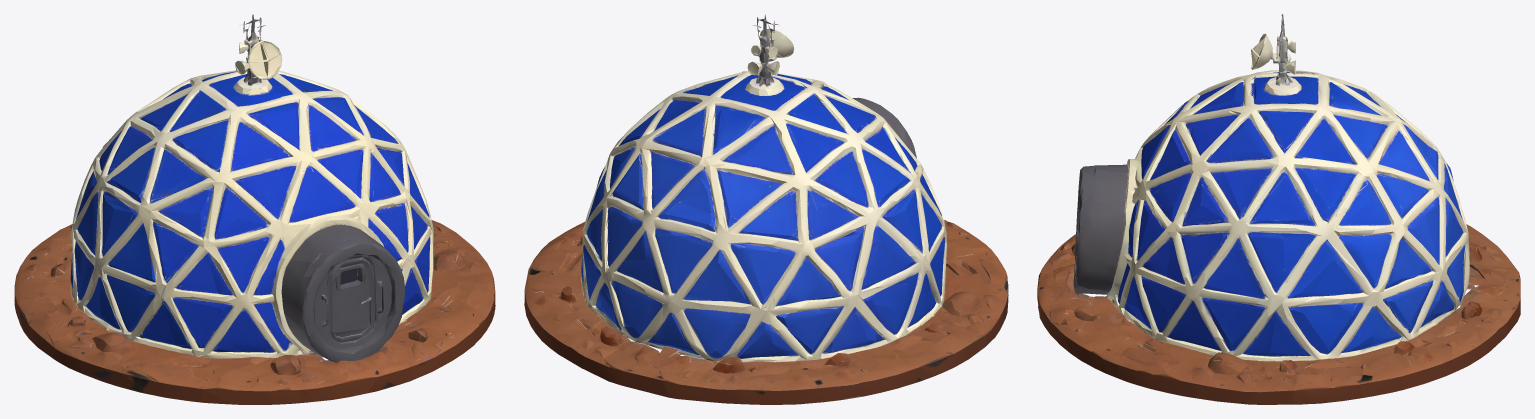
The model's file is housing.glb.
3 renders of one model, left to right at view 1: azimuth 30°, elevation 25°; view 2: azimuth 150°, elevation 25°; view 3: azimuth 270°, elevation 25°, orthographic.
Bounding box in the file's own units: 1.9 × 1.25 × 1.9.
1 material, 1 textured.
